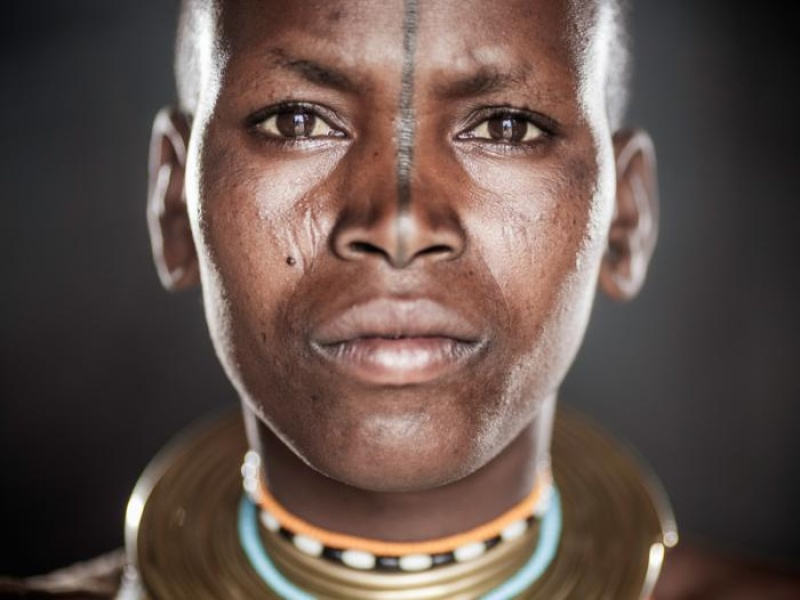face: (217, 12, 590, 433)
